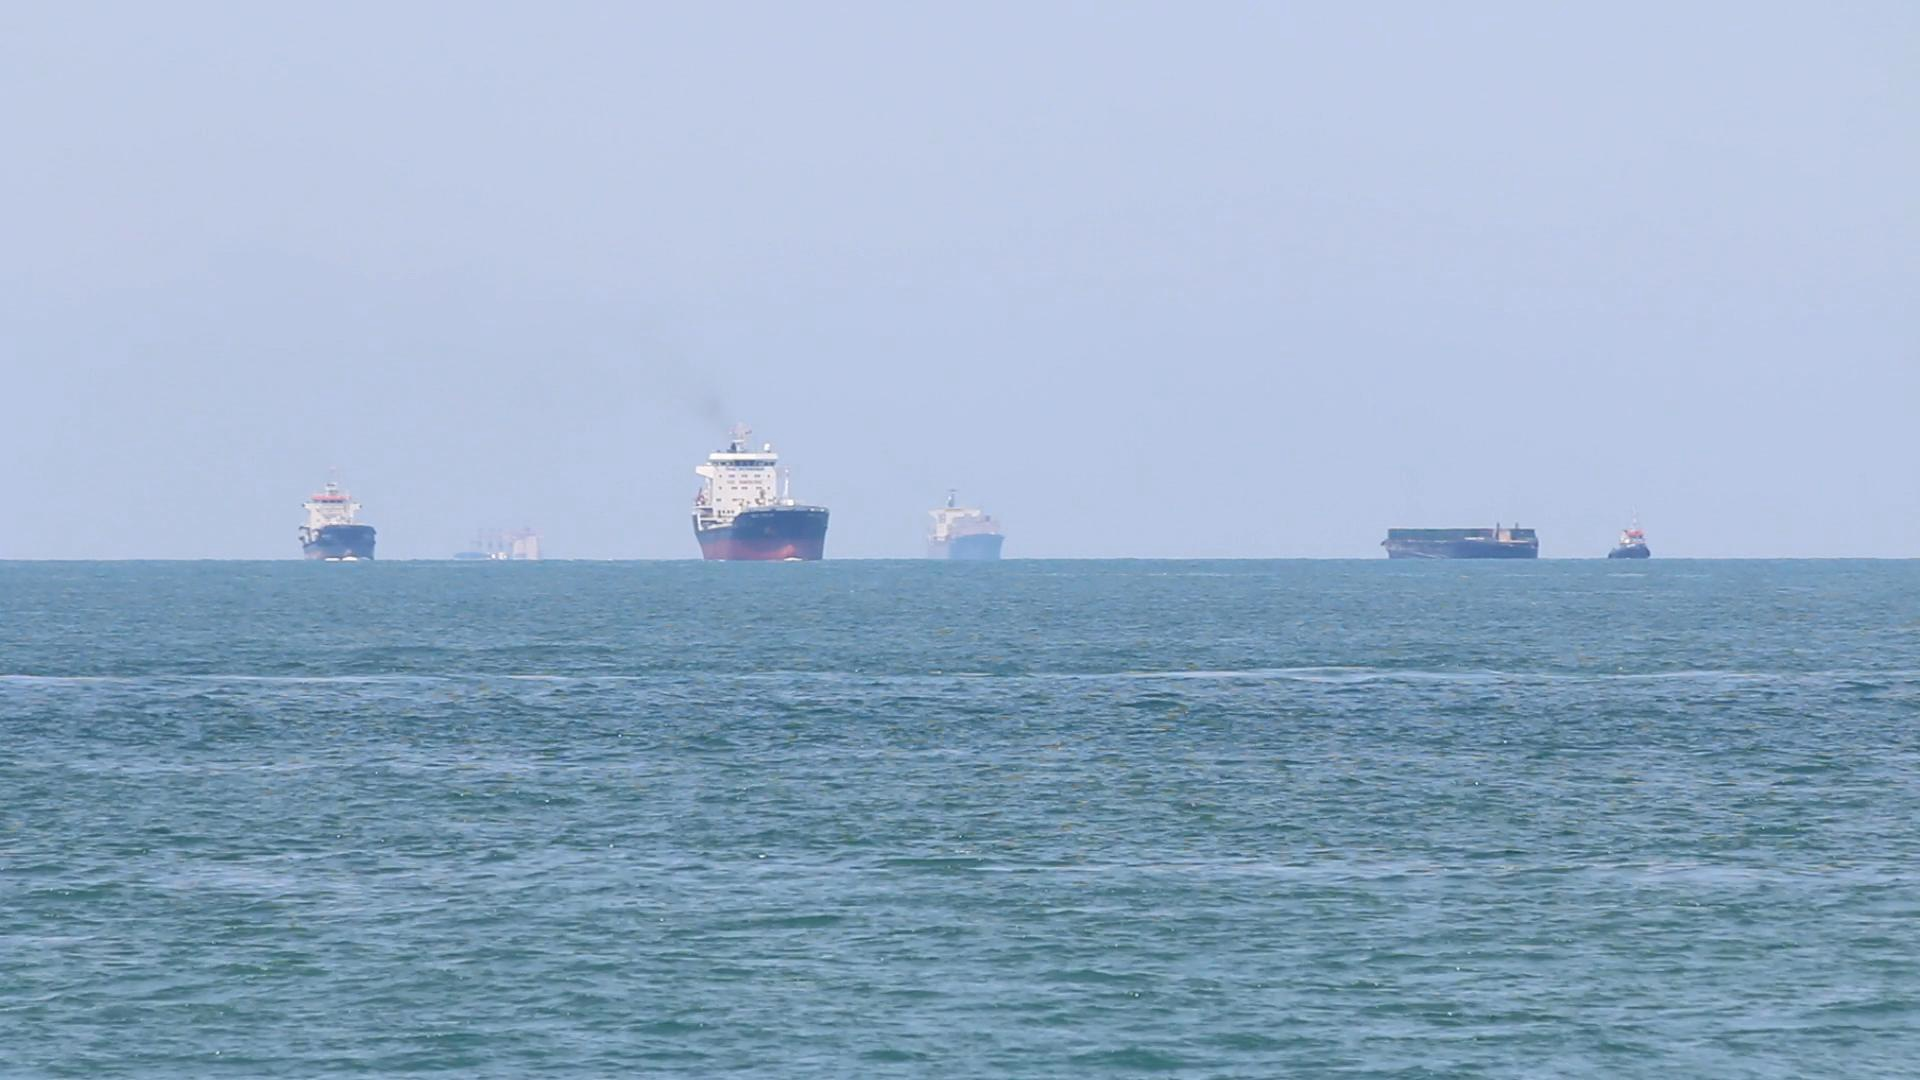Container Ship: (687, 419, 840, 572), (1377, 513, 1548, 568), (294, 464, 381, 571), (919, 483, 1015, 574), (1598, 521, 1664, 567)
